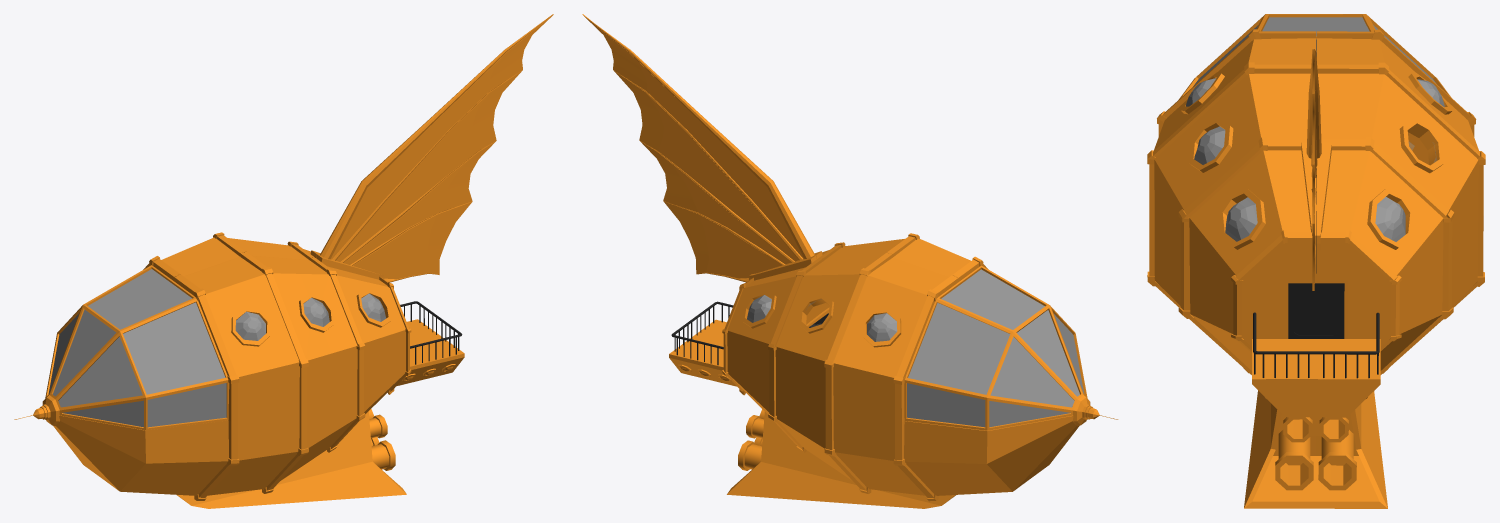
File: Nave_3d.FBX
3 views of the same model, side by side, from view 1: azimuth 30°, elevation 25°; view 2: azimuth 150°, elevation 25°; view 3: azimuth 270°, elevation 25° (orthographic). The views are drawn at different scales.
Parts seen in each view (by area): view 1: Nave_espacial, Aleta, Vidrio_Nave, Estructura_cabina, cupulas; view 2: Nave_espacial, Aleta, Vidrio_Nave, Estructura_cabina, cupulas; view 3: Nave_espacial, cupulas, Vidrio_Nave, Aleta, Puerta_5, Puerta_6, Estructura_cabina.
Boxes of the visible parts, <box> form: Nave_espacial: <box>53,232,464,508</box>; Aleta: <box>320,14,553,282</box>; Vidrio_Nave: <box>48,269,226,427</box>; Estructura_cabina: <box>14,265,229,430</box>; cupulas: <box>235,293,386,340</box>; Nave_espacial: <box>669,233,1079,508</box>; Aleta: <box>582,14,814,282</box>; Vidrio_Nave: <box>907,269,1084,427</box>; Estructura_cabina: <box>904,265,1118,430</box>; cupulas: <box>747,295,897,341</box>; Nave_espacial: <box>1147,29,1485,508</box>; cupulas: <box>1186,78,1444,241</box>; Vidrio_Nave: <box>1193,17,1436,86</box>; Aleta: <box>1306,49,1321,290</box>; Puerta_5: <box>1316,283,1344,338</box>; Puerta_6: <box>1288,283,1316,338</box>; Estructura_cabina: <box>1179,14,1450,98</box>.
Size of what is drawn, in the model's own units: 3169 by 2363 by 1262.
